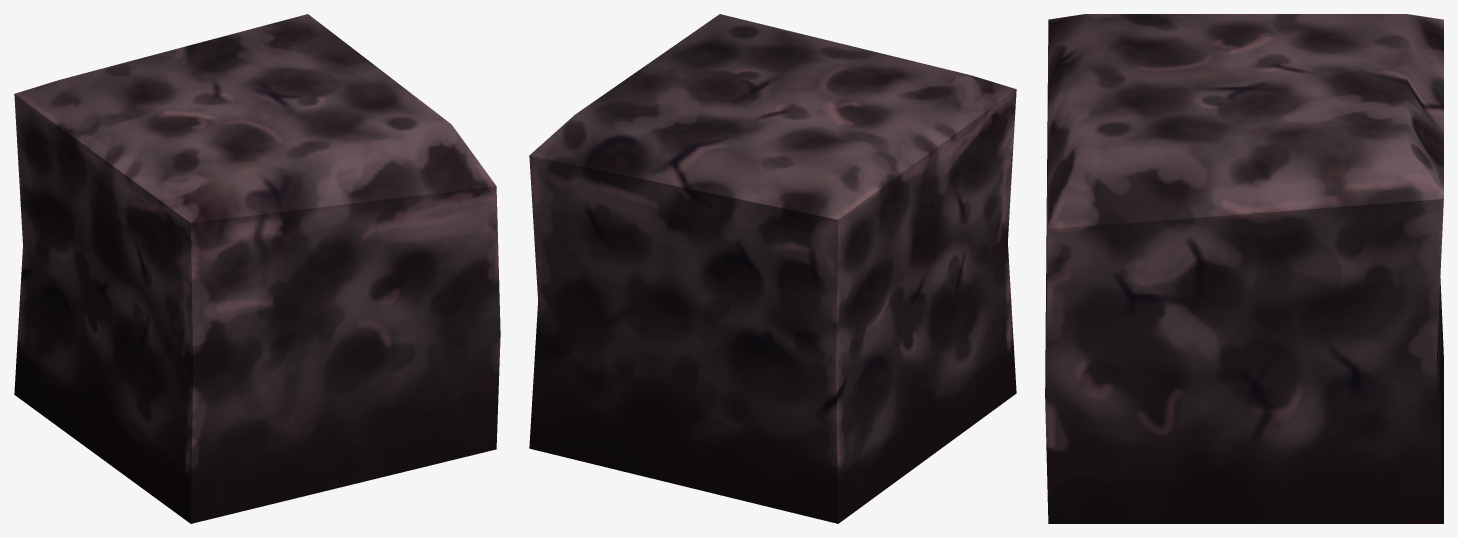
The model's file is ObstacleStone_Volcano.glb.
The picture shows the model from 3 angles, left to right: view 1: azimuth 30°, elevation 25°; view 2: azimuth 150°, elevation 25°; view 3: azimuth 270°, elevation 25°; orthographic projection. The views are drawn at different scales.
Parts seen in each view (by area): view 1: Cube; view 2: Cube; view 3: Cube.
Boxes of the visible parts, left/top/right/bottom form: Cube: left=14, top=14, right=500, bottom=523; Cube: left=529, top=14, right=1016, bottom=523; Cube: left=1045, top=14, right=1443, bottom=523.
Size of the model in its own units: 0.5042 by 0.5083 by 0.5042.
1 material, 1 textured.
